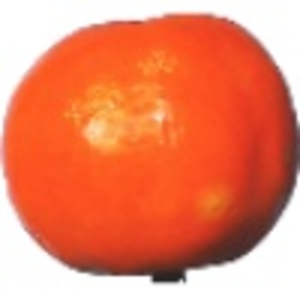tangerina: (1, 11, 300, 281)
